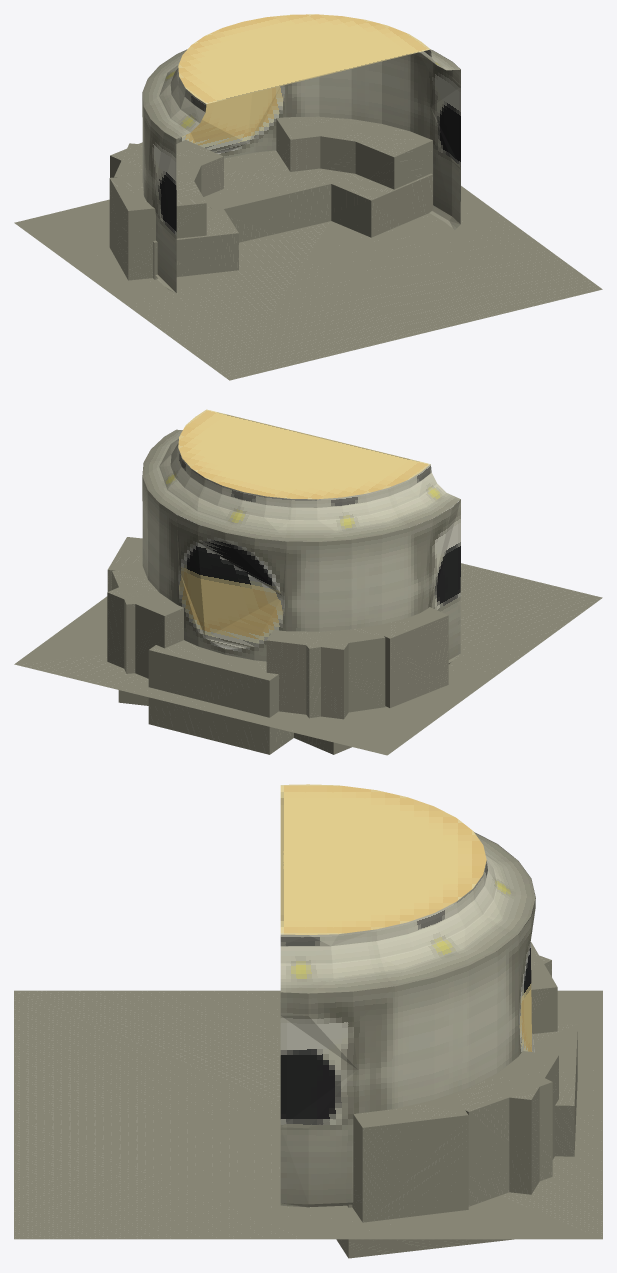
Rendered from HomeInsideTest.obj.
The picture shows the model from 3 angles, top to bottom: view 1: azimuth 30°, elevation 25°; view 2: azimuth 150°, elevation 25°; view 3: azimuth 270°, elevation 25°; orthographic projection. The views are drawn at different scales.
Parts seen in each view (by area): view 1: Mold__WallMT_Untitled.027; view 2: Mold__WallMT_Untitled.027; view 3: Mold__WallMT_Untitled.027.
Boxes of the visible parts, bbox=[...] form: Mold__WallMT_Untitled.027: bbox=[14, 14, 602, 380]; Mold__WallMT_Untitled.027: bbox=[14, 409, 602, 755]; Mold__WallMT_Untitled.027: bbox=[14, 784, 602, 1258].
Bounding box in the file's own units: 1653 × 948 × 1653.
1 material, 1 textured.
